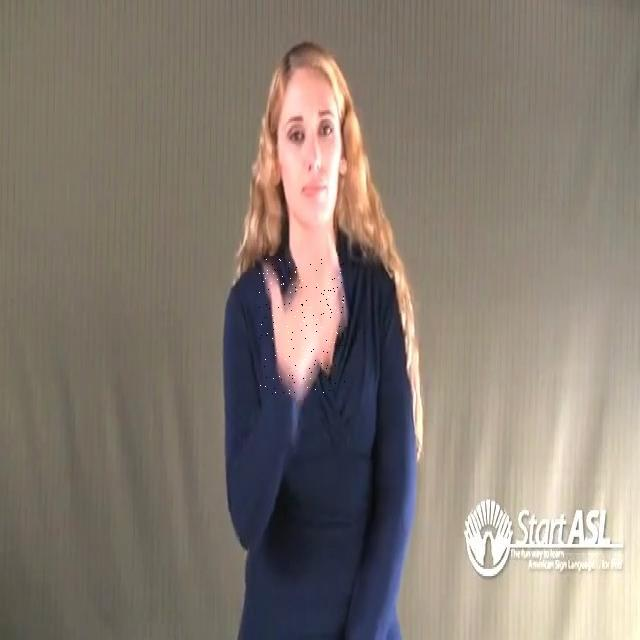thank-you: (259, 258, 345, 394)
